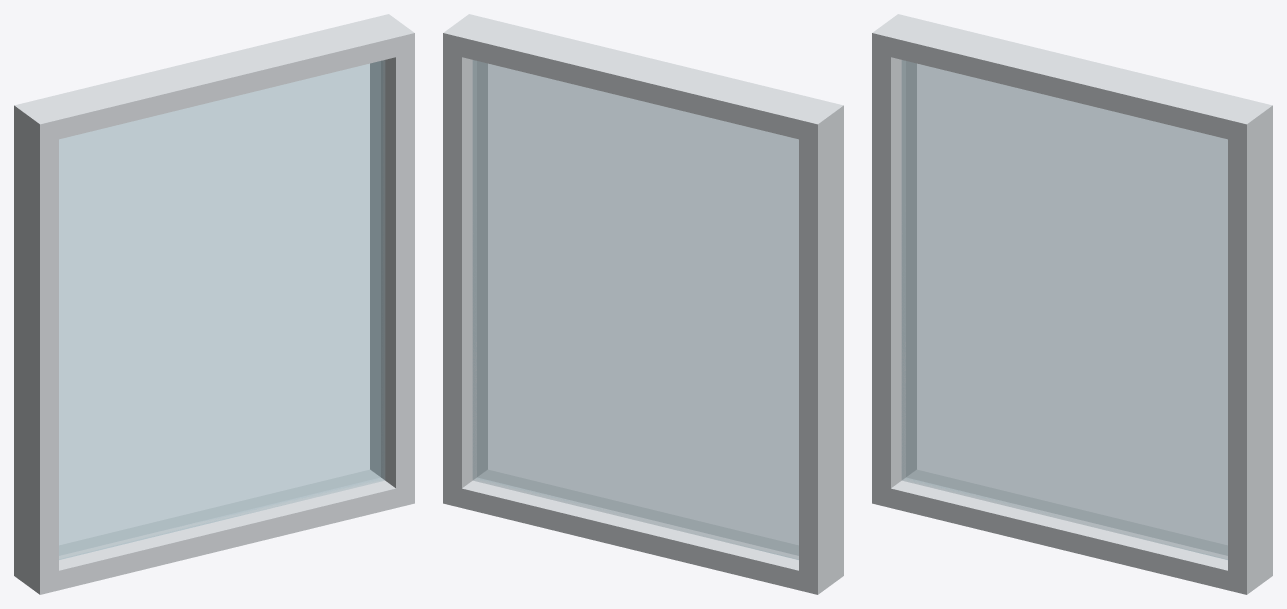
The picture shows the model from 3 angles, left to right: view 1: azimuth 30°, elevation 25°; view 2: azimuth 150°, elevation 25°; view 3: azimuth 330°, elevation 25°; orthographic projection.
Parts seen in each view (by area): view 1: glass, frame (×4); view 2: glass, frame (×4); view 3: glass, frame (×4).
Boxes of the visible parts, x1,y1,x2,y2 form: glass: [59, 60, 384, 559]; frame (×4): [14, 14, 414, 594]; glass: [472, 60, 798, 559]; frame (×4): [443, 14, 843, 594]; glass: [901, 60, 1227, 559]; frame (×4): [872, 14, 1272, 594].
Bounding box in the file's own units: 1 × 1.2 × 0.12.
